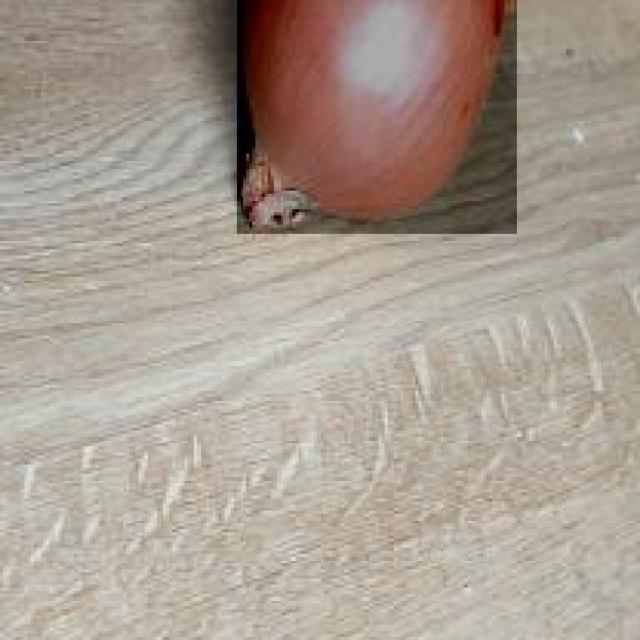onion: (237, 0, 520, 237)
